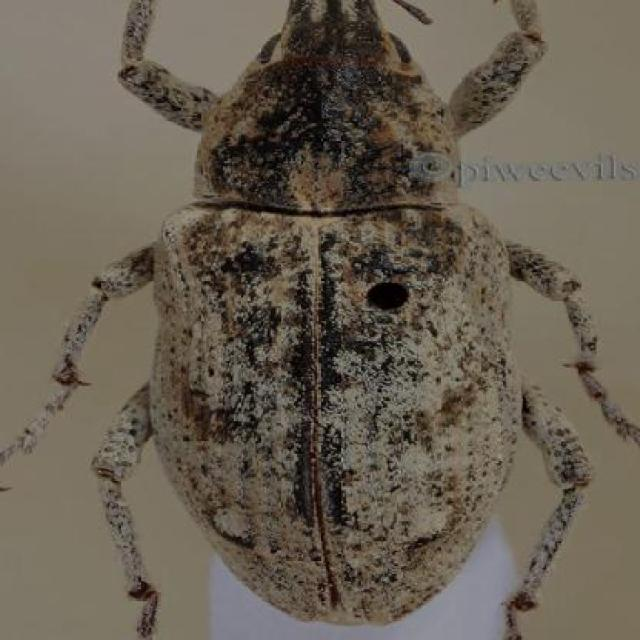rice-bug: (88, 1, 595, 639)
